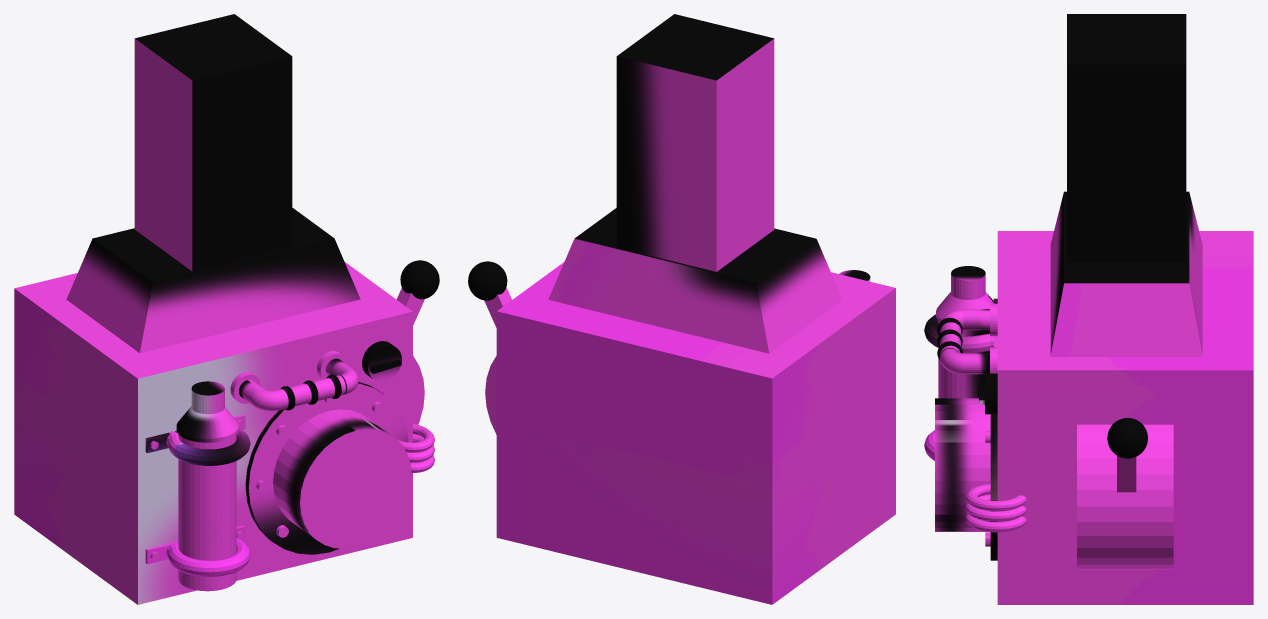
Rendered from battery.obj.
3 renders of one model, left to right at view 1: azimuth 30°, elevation 25°; view 2: azimuth 150°, elevation 25°; view 3: azimuth 270°, elevation 25°, orthographic. The views are drawn at different scales.
Parts seen in each view (by area): view 1: 立方体.001; view 2: 立方体.001; view 3: 立方体.001.
Part boxes in pixels (left/top/right/bottom): 立方体.001: left=14, top=14, right=439, bottom=604; 立方体.001: left=468, top=14, right=895, bottom=604; 立方体.001: left=924, top=14, right=1253, bottom=604.
Size of the model in its own units: 21.26 by 26.86 by 16.16.
Materials: 1 (1 with a texture image).
